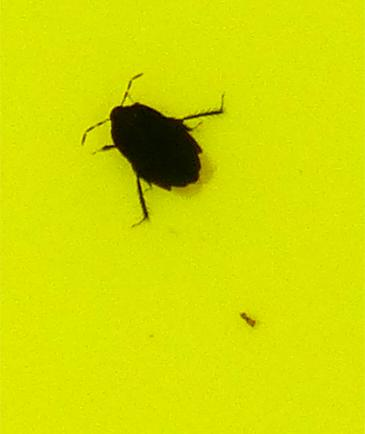Brachycera: (235, 304, 265, 334)
Coleoptera: (100, 100, 229, 226)
